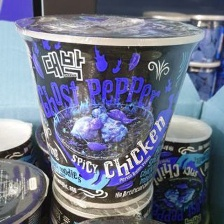paper_cup: (11, 9, 208, 212)
